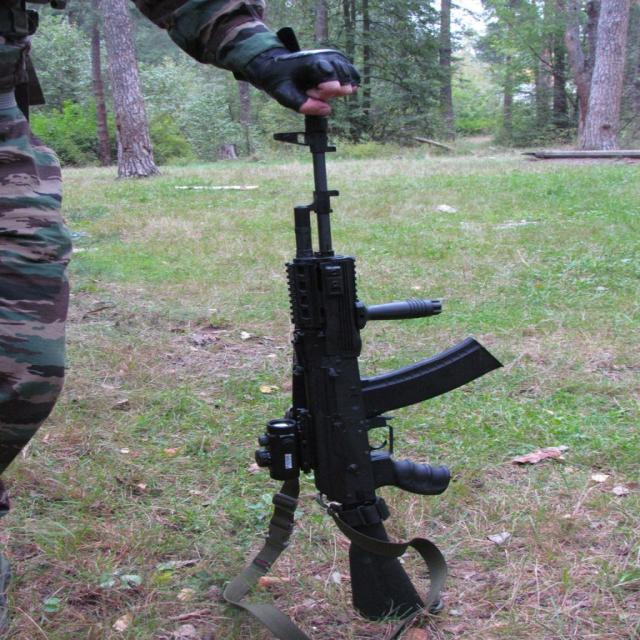firearm: (256, 106, 500, 616)
